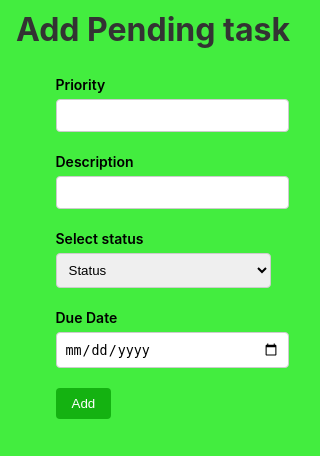
Test: PendingForm › should display error messages when form is submitted with invalid Status
Note: Set values for form fields
Type "High" into the field labelled "Priority" at (172, 116), box [56,99,288,132]
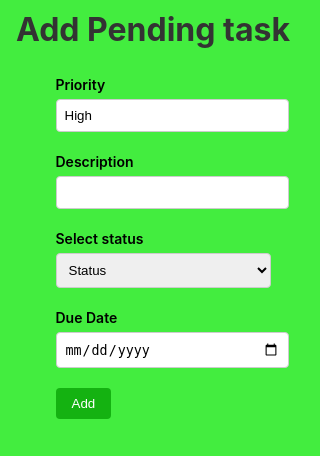
Type "Complete task 1" into the field labelled "Description" at (172, 193), box [56,176,288,209]
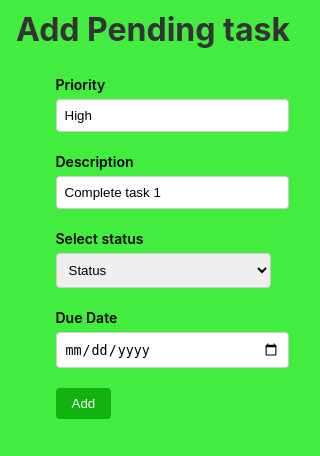
Type "2022-01-01" into the date field labelled "Due Date" at (172, 350), box [56,332,288,368]
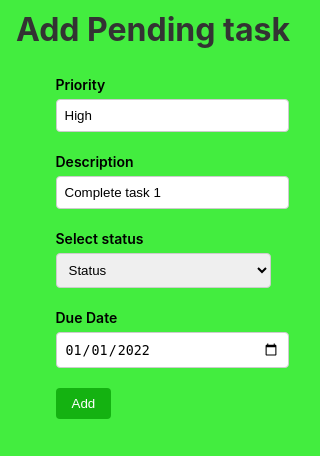
Click the button "Add" at (83, 403), box [56,388,111,419]
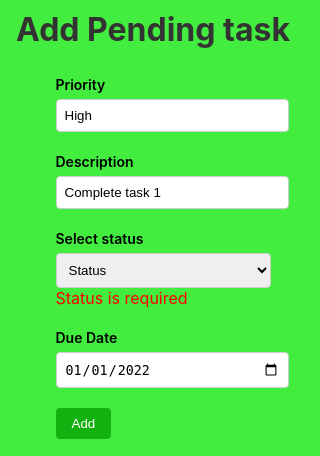
expect the text "Status is required" is shown: met, box [56,288,188,308]
